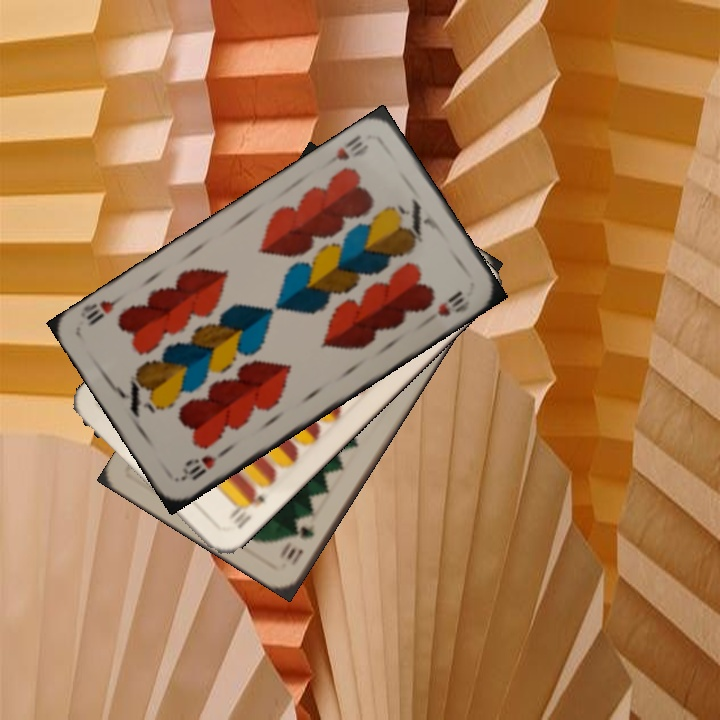E10: (225, 486, 268, 532)
G10: (282, 521, 318, 569)
H10: (177, 444, 231, 484), (320, 130, 371, 170)
